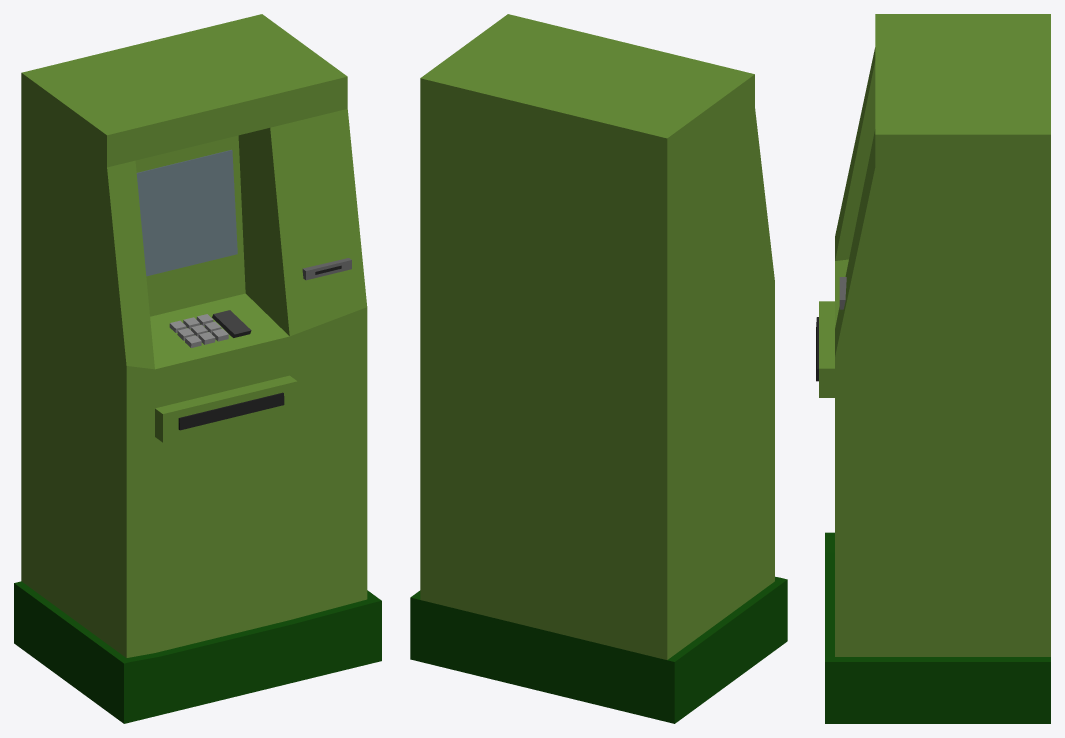
The model's file is ATM.fbx.
The picture shows the model from 3 angles, left to right: view 1: azimuth 30°, elevation 25°; view 2: azimuth 150°, elevation 25°; view 3: azimuth 270°, elevation 25°; orthographic projection. The views are drawn at different scales.
Parts seen in each view (by area): view 1: Cube.012; view 2: Cube.012; view 3: Cube.012.
Boxes of the visible parts, x1=… form: Cube.012: x1=14, y1=14, x2=381, y2=723; Cube.012: x1=410, y1=14, x2=787, y2=723; Cube.012: x1=816, y1=14, x2=1050, y2=723.
Size of the model in its own units: 115 by 243 by 88.6.
1 material, 1 textured.
